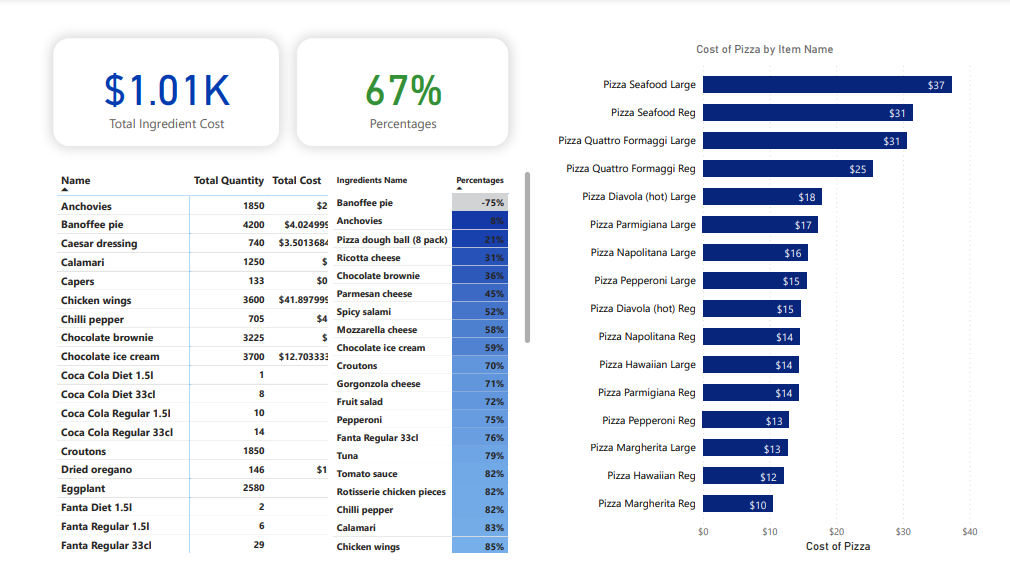

What the dashboard file says about the page in this screenshot:
{"tool":"powerbi","page":{"name":"Dashboard 2","canvas":[1280,720],"ordinal":1},"visuals":[{"type":"pivotTable","fields":{"Rows":["stock1.ing_name"],"Values":["Sum(stock1.ordered_weight)","Sum(stock1.ingredient_cost)"]},"box":[81,193.7,507.1,496.5],"z":0},{"type":"card","fields":{"Values":["Sum(stock1.ingredient_cost)"]},"box":[81,29.9,287,137.3],"z":1000},{"type":"card","fields":{"Values":["stock2.Percentages"]},"box":[390.9,29.9,269.4,137.3],"z":2000},{"type":"tableEx","fields":{"Values":["stock2.ing_name","stock2.remaining_weight divided by total_inv_weight"]},"box":[431.4,193.7,262.3,496.5],"z":3000},{"type":"clusteredBarChart","title":"Cost of Pizza by Item Name","fields":{"Category":["stock1.item_name"],"Y":["stock1.Cost of Pizza"]},"box":[706,35.2,561.7,655],"z":4000}]}

Visuals, with their boxes in screenshot pixels (x1, y1, x2, y2), scaled from the page's 1280x720 canvas onto the 1010x578 screenshot:
pivotTable - stock1.ing_name x Sum(stock1.ordered_weight): [64,155,464,554]
card - Sum(stock1.ingredient_cost): [64,24,290,134]
card - stock2.Percentages: [308,24,521,134]
tableEx - stock2.ing_name x stock2.remaining_weight divided by total_inv_weight: [340,155,547,554]
"Cost of Pizza by Item Name" clusteredBarChart: [557,28,1000,554]
